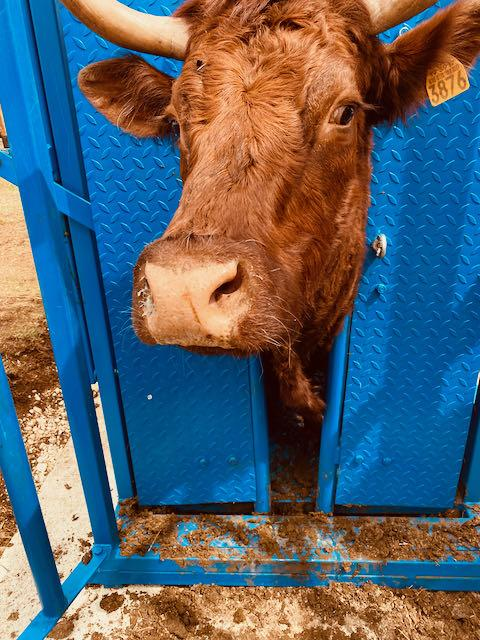muzzles: (122, 250, 283, 364)
